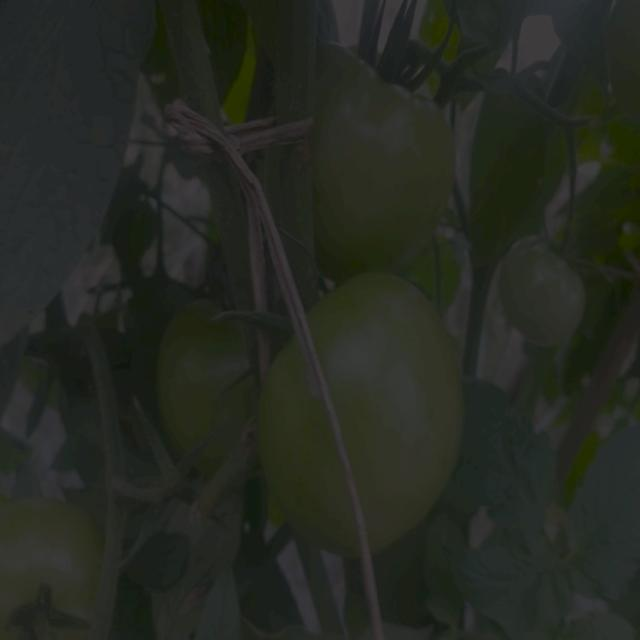tomato: (339, 280, 470, 533), (332, 50, 449, 274), (250, 357, 345, 556), (158, 307, 268, 441), (1, 501, 94, 640), (503, 234, 588, 354)
